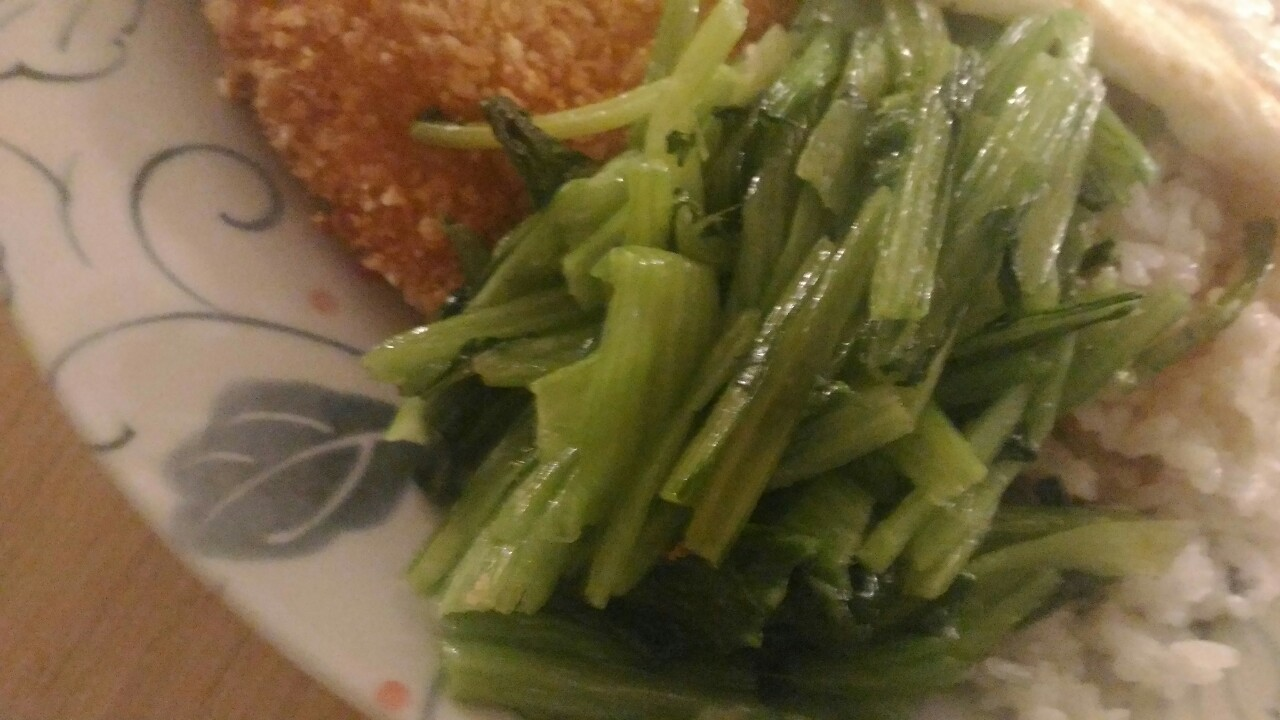water_spinach: (388, 3, 1115, 720)
